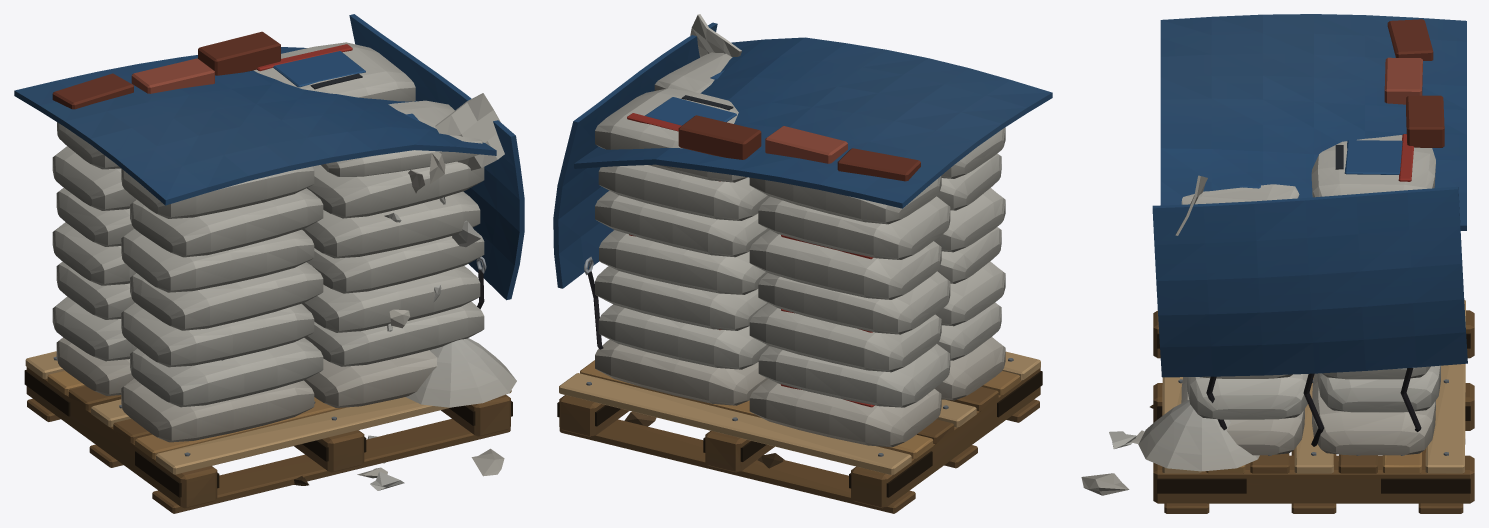
File: cement-bag-pallet.glb
3 views of the same model, side by side, from view 1: azimuth 30°, elevation 25°; view 2: azimuth 150°, elevation 25°; view 3: azimuth 270°, elevation 25° (orthographic). The views are drawn at different scales.
Parts seen in each view (by area): view 1: cement_bag_pallet; view 2: cement_bag_pallet; view 3: cement_bag_pallet.
Boxes of the visible parts, left/top/right/bottom form: cement_bag_pallet: left=14, top=14, right=524, bottom=513; cement_bag_pallet: left=553, top=14, right=1052, bottom=513; cement_bag_pallet: left=1081, top=14, right=1474, bottom=513.
Bounding box in the file's own units: 1.13 × 0.9896 × 1.05.
